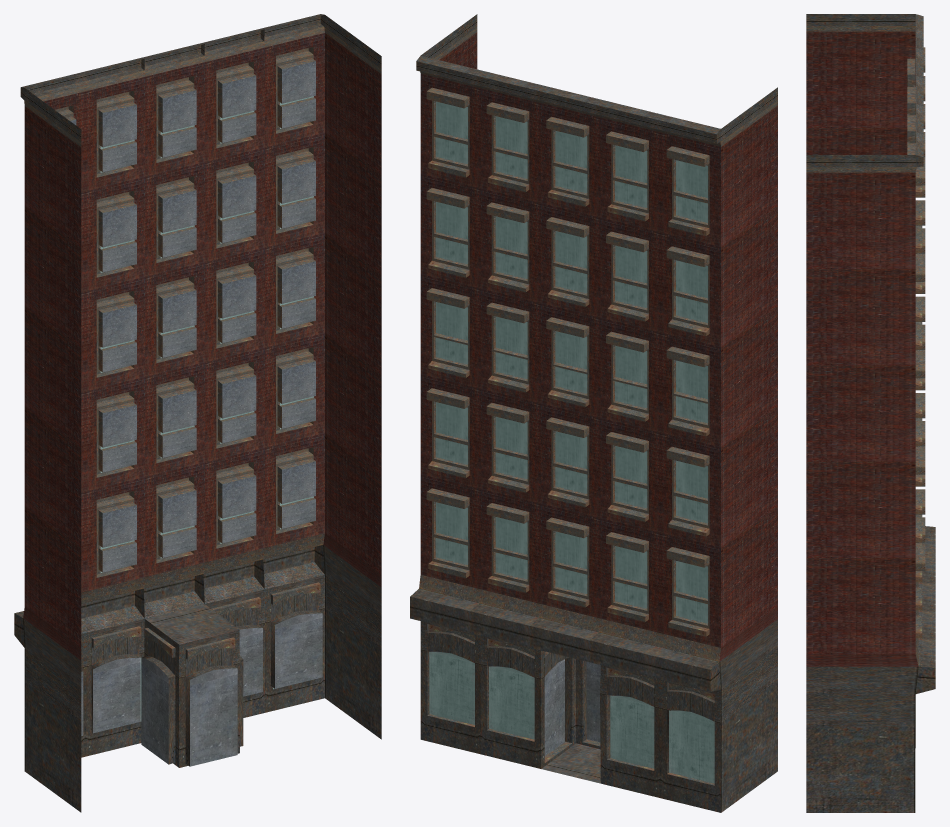
File: Building_10.fbx
3 views of the same model, side by side, from view 1: azimuth 30°, elevation 25°; view 2: azimuth 150°, elevation 25°; view 3: azimuth 270°, elevation 25° (orthographic). The views are drawn at different scales.
Parts seen in each view (by area): view 1: Building_10; view 2: Building_10; view 3: Building_10.
Part boxes in pixels (bbox=[...]): Building_10: bbox=[14, 14, 381, 812]; Building_10: bbox=[410, 14, 777, 812]; Building_10: bbox=[806, 14, 935, 812].
Bounding box in the file's own units: 897 × 1951 × 348.
